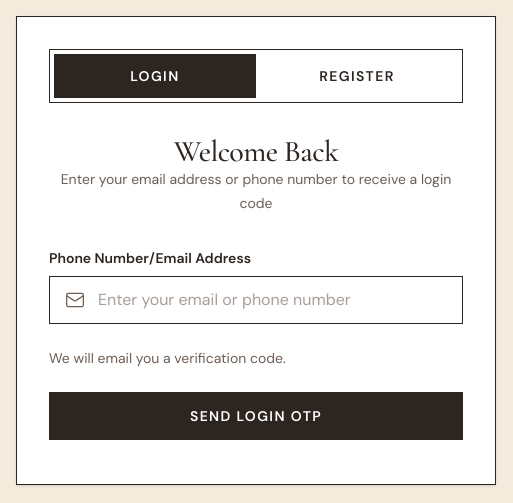
CustomerLoginForm › switches between email and phone icons based on the entered value
Check: the icon with test id "email-input-icon" is shown, box [65,290,85,310]
Type "9876543210" into the field with placeholder "Enter your email or phone number" at (256, 300), box [49,276,463,324]
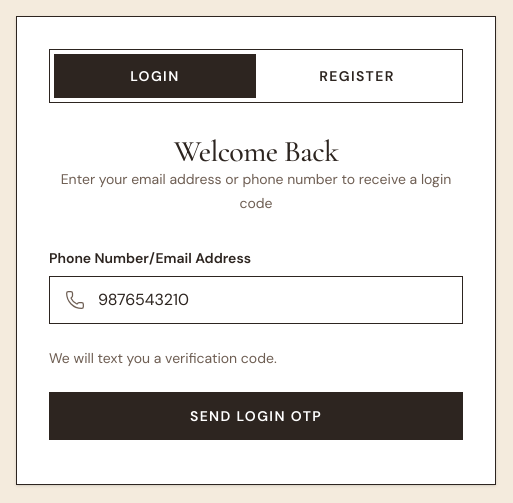
Check: the icon with test id "phone-input-icon" is shown, box [65,290,85,310]
Replace the text in the field with placeholder "Enter your email or phone number" with "customer@example.com" at (256, 300), box [49,276,463,324]
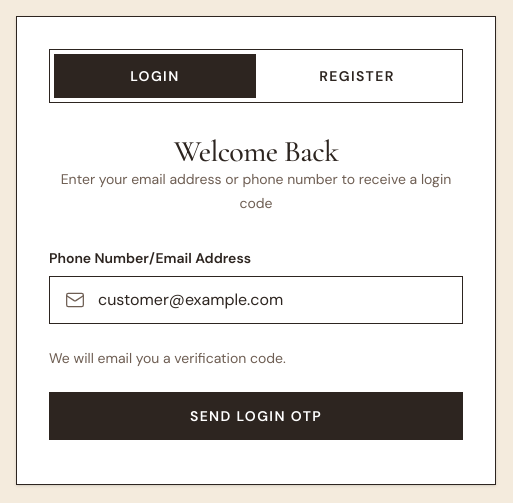
Check: the icon with test id "email-input-icon" is shown, box [65,290,85,310]
